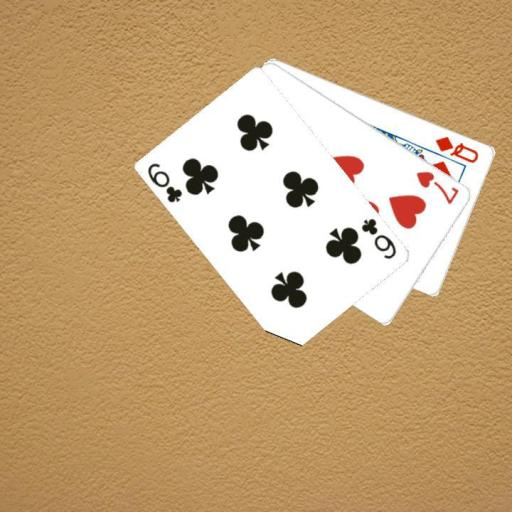6C: (358, 215, 399, 261), (145, 159, 185, 205)
7H: (413, 168, 461, 206)
QD: (432, 133, 481, 164)
